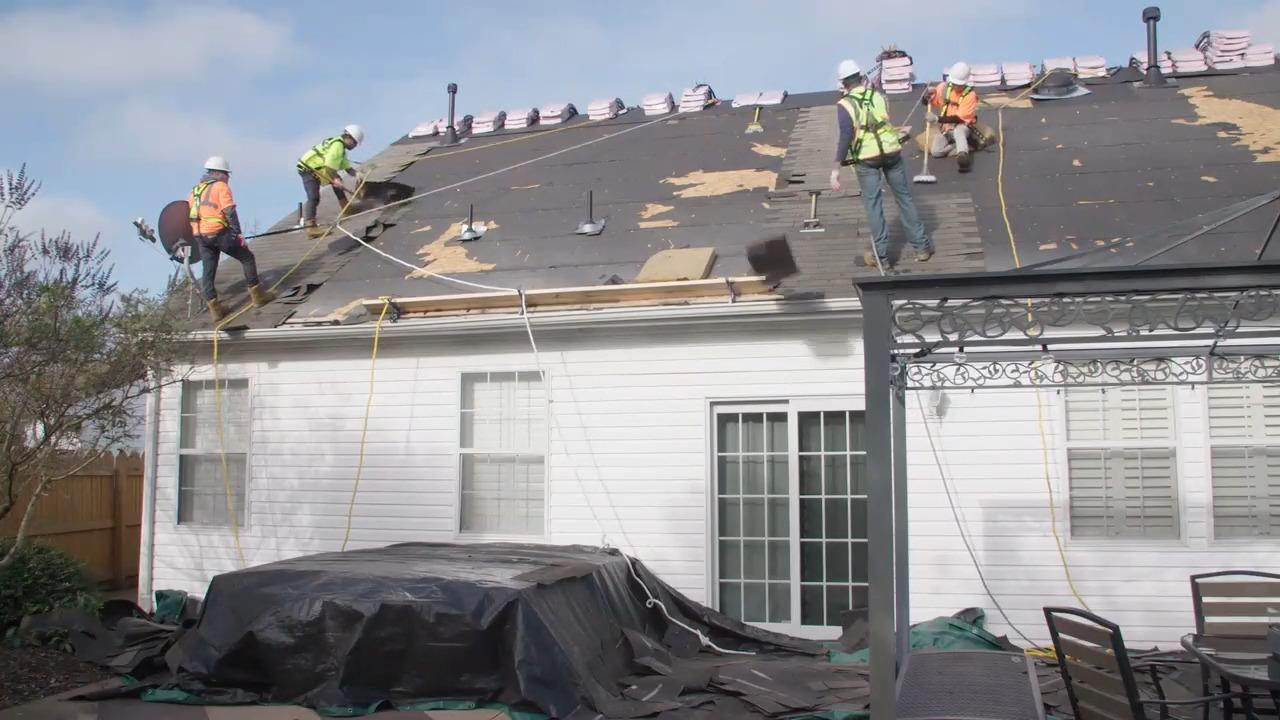Gloves: (825, 172, 841, 194), (922, 112, 937, 128), (332, 178, 346, 189), (237, 232, 246, 248), (356, 170, 364, 182)
Helmet: (948, 61, 970, 85), (200, 159, 229, 177), (837, 59, 860, 80), (342, 123, 363, 146)
Person: (824, 51, 923, 269), (186, 158, 269, 337), (296, 124, 364, 239), (930, 58, 986, 178)
Safety Boot: (247, 282, 273, 307), (916, 241, 937, 263), (955, 147, 971, 174), (207, 298, 227, 319), (304, 221, 332, 236), (343, 203, 365, 217), (875, 254, 891, 268)
Safety Vest: (842, 98, 889, 155), (197, 187, 235, 226), (308, 140, 344, 178), (939, 89, 969, 123)
